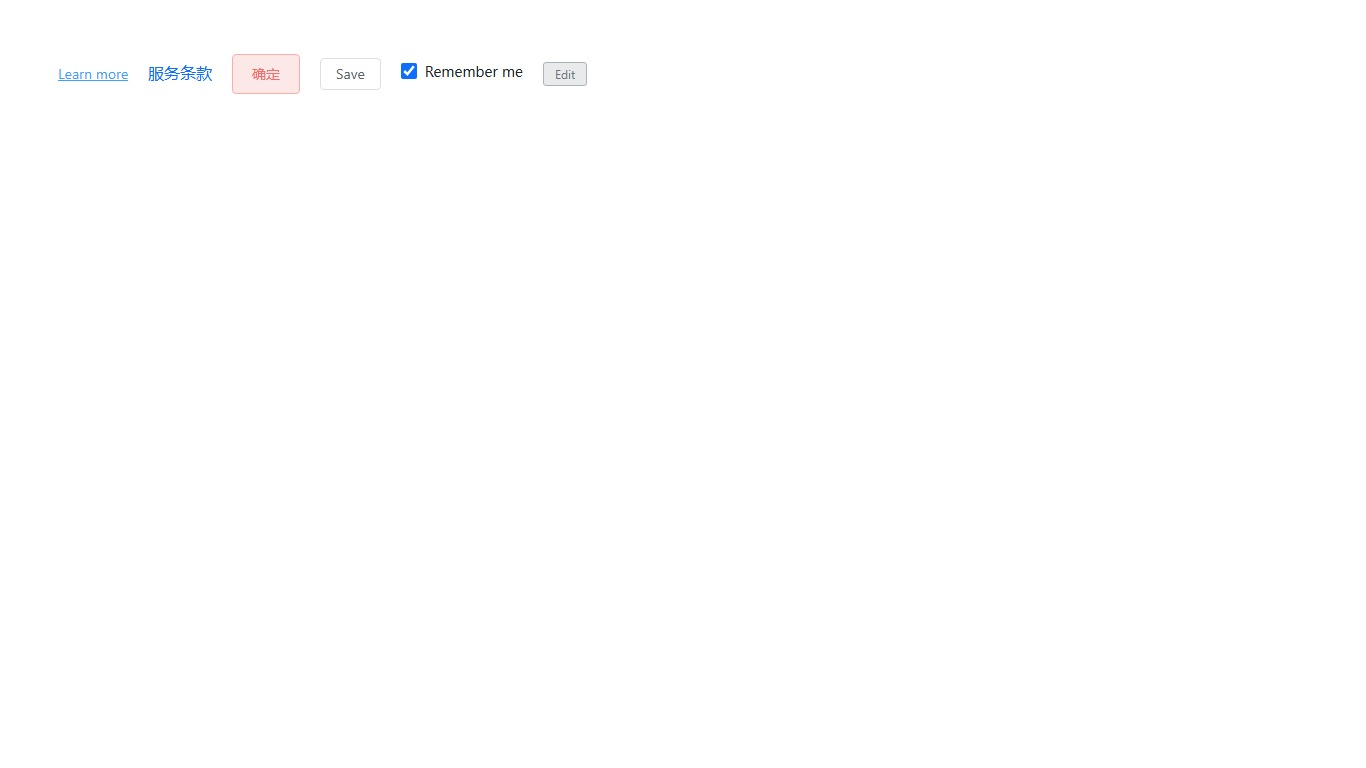button: (232, 54, 300, 94), (320, 58, 381, 90), (543, 62, 587, 86)
checkbox: (401, 63, 417, 79)
icon: (425, 61, 523, 81)
link: (148, 62, 212, 83), (58, 64, 128, 83)
radio: (401, 61, 523, 81)
